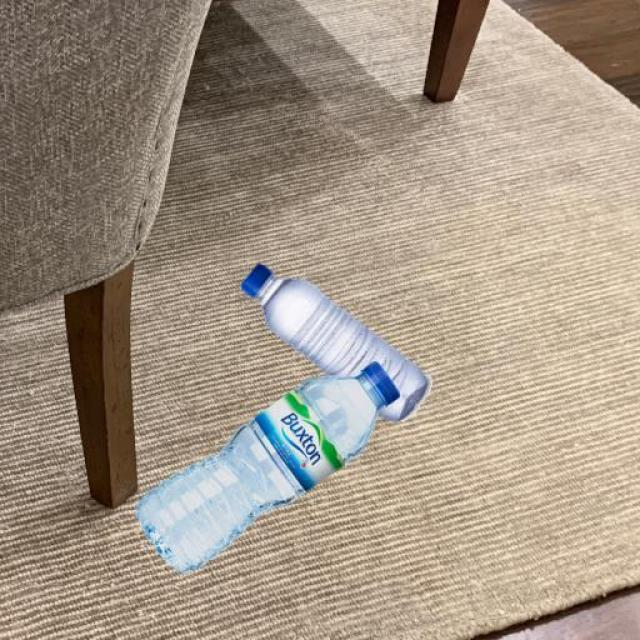bottle: (138, 294, 422, 582)
